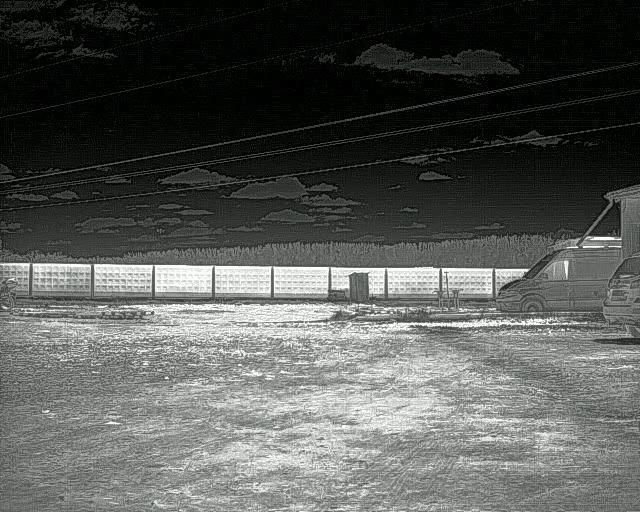ufo-thermal: (154, 226, 167, 235)
